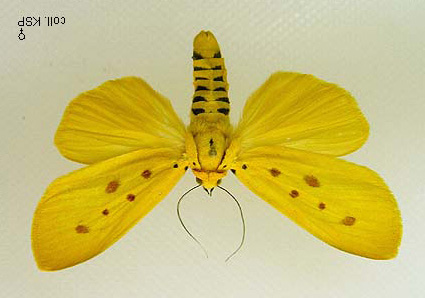Agape chloropyga: (27, 31, 407, 272)
moth: (29, 30, 409, 271)
